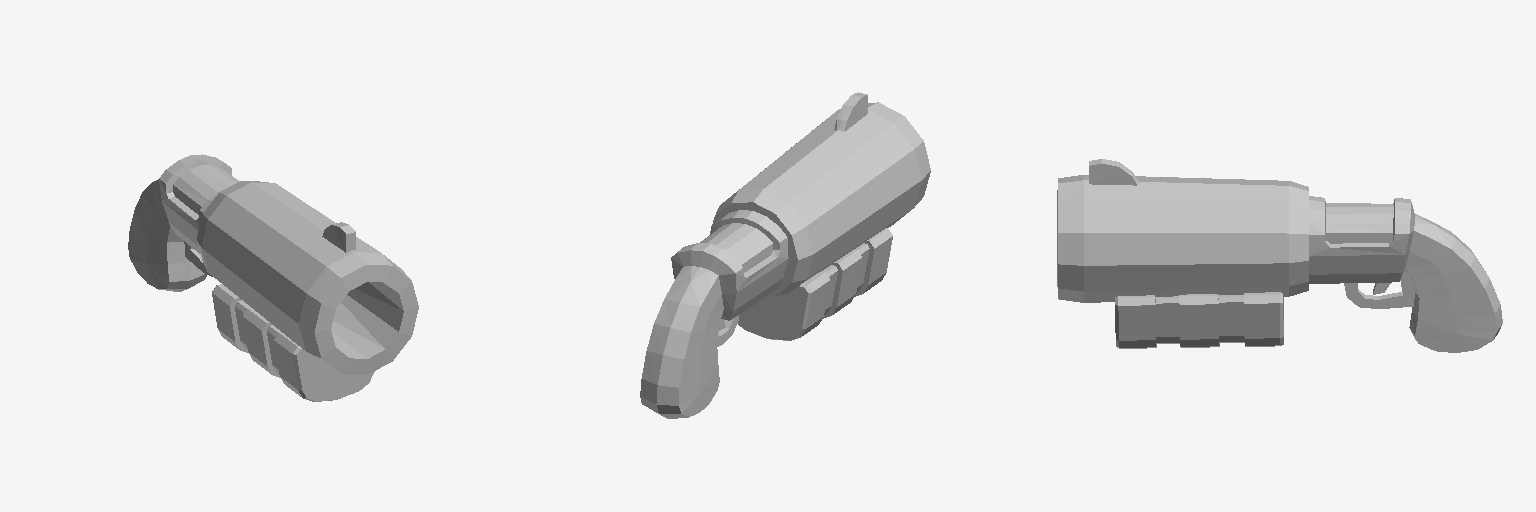
The model's file is ShellyGun.obj.
3 renders of one model, left to right at view 1: azimuth 30°, elevation 25°; view 2: azimuth 150°, elevation 25°; view 3: azimuth 270°, elevation 25°, orthographic.
Parts seen in each view (by area): view 1: gunGeo_cms.000, gunGeo_cms; view 2: gunGeo_cms.000, gunGeo_cms; view 3: gunGeo_cms.000, gunGeo_cms.
Part boxes in pixels (x1,y1,x2,y2): gunGeo_cms.000: (159,154,418,374); gunGeo_cms: (128,179,374,401); gunGeo_cms.000: (671,92,930,346); gunGeo_cms: (640,228,892,418); gunGeo_cms.000: (1057,159,1414,308); gunGeo_cms: (1115,214,1502,352).
Bounding box in the file's own units: 1.33 × 2.17 × 4.62.